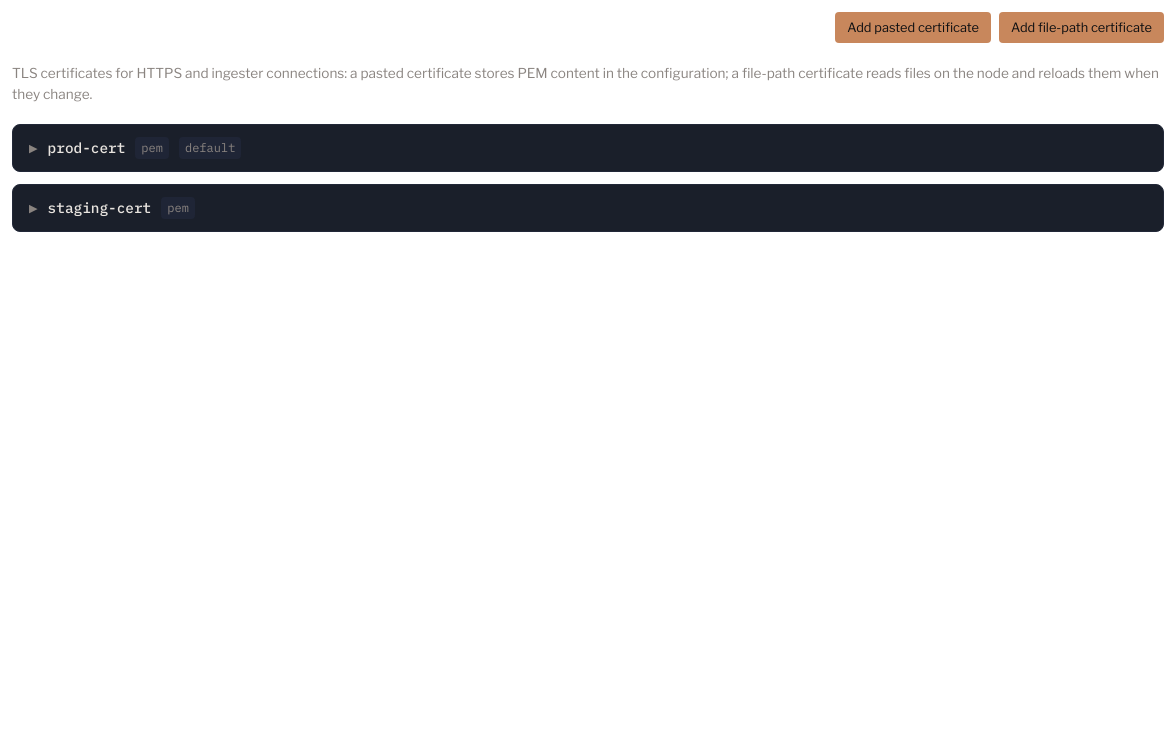
CertificatesSettings › expanded cert shows Save button in footer
Click the text "prod-cert". click: click(86, 148)
box: [48,137,125,159]
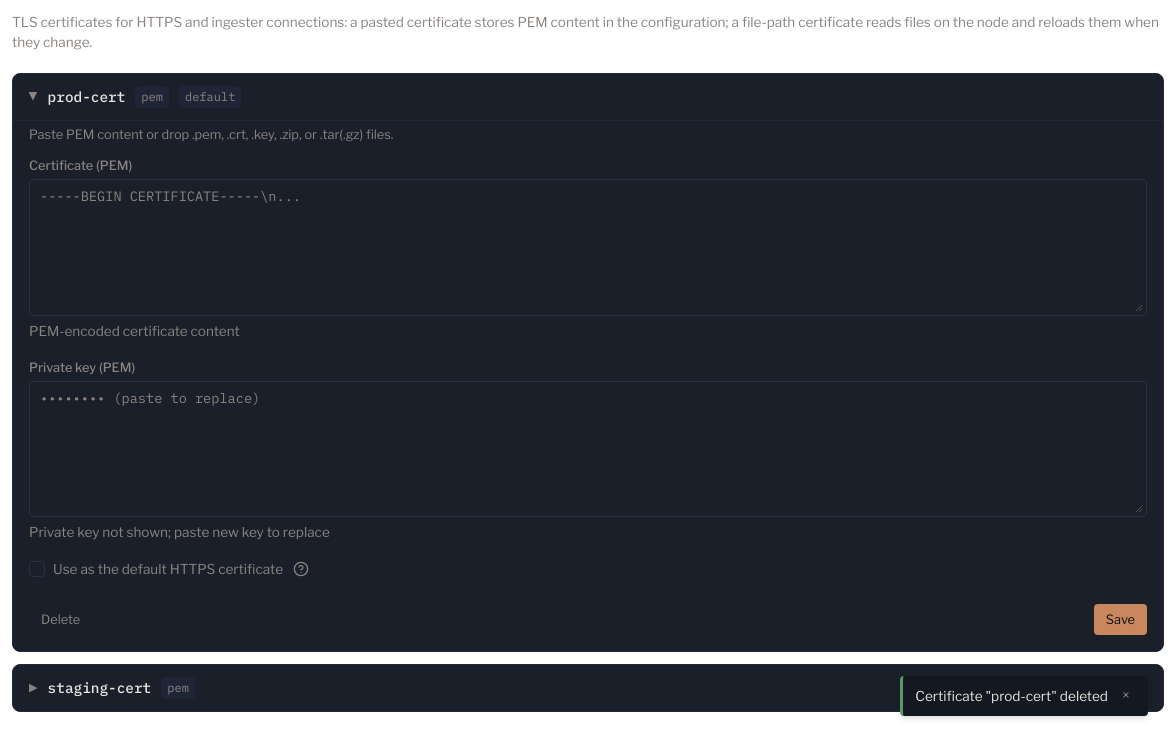
Result: the button "Save" is shown at [1094,604,1147,635]
